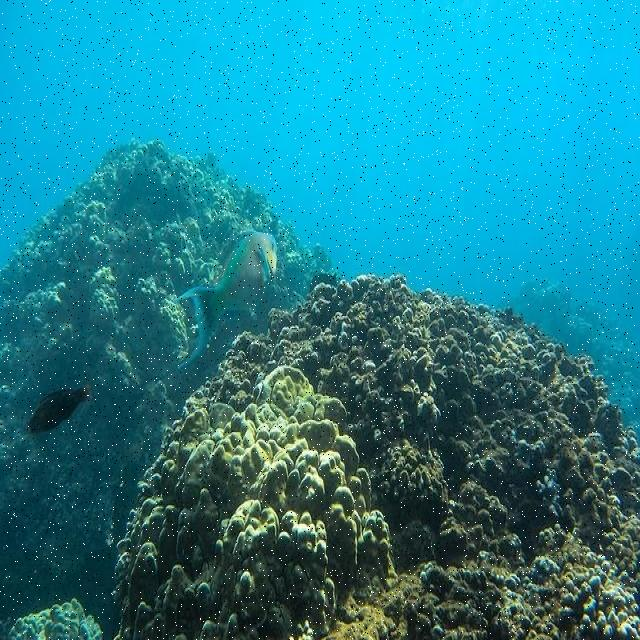fish: (173, 229, 278, 369), (27, 384, 91, 433), (309, 272, 336, 292)
reefs: (171, 271, 639, 639), (0, 137, 336, 639), (111, 365, 426, 638), (7, 598, 102, 639)
